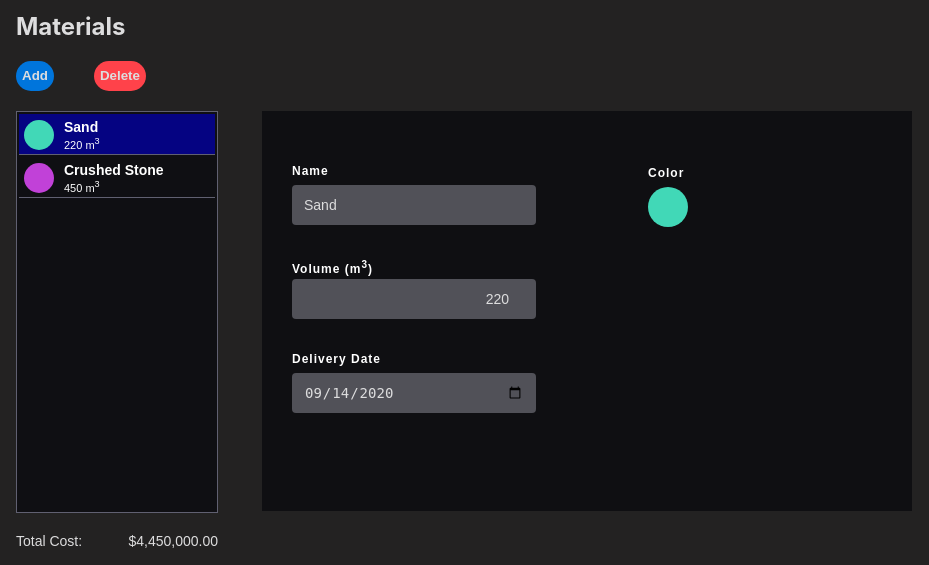
Test: Cesium Material Form › After Loading › deletes the selected row when clicking delete button
Click the button with test id "material-tool-delete-btn" at (120, 76), box [94,61,146,91]
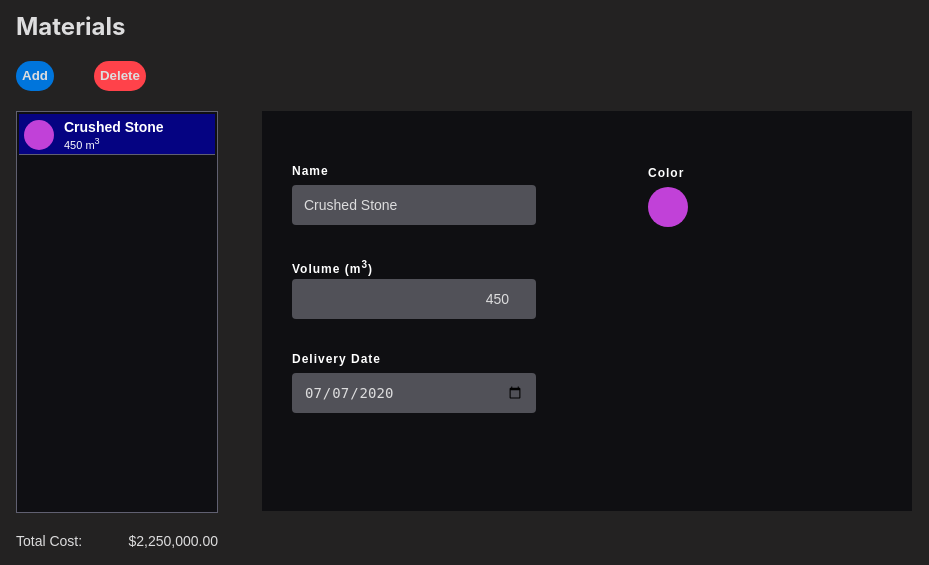
Expected: no rows with test id "material-table-row-abba" are shown
